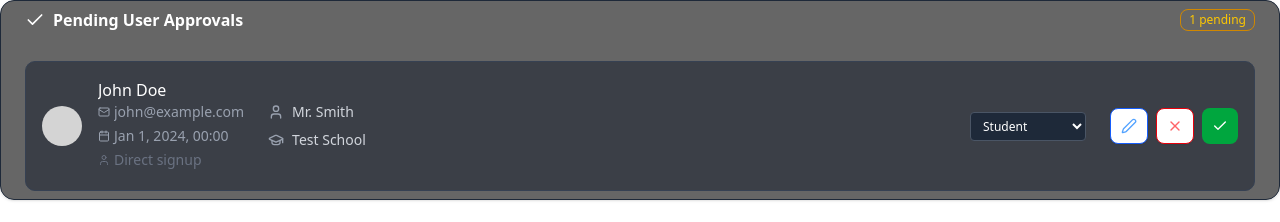
Test: PendingUsers › should open edit mode when edit button is clicked
Expected: the heading "John Doe" is shown, x1=98 y1=79 x2=166 y2=101
Click the 1st button at [1129, 126], box x1=1110 y1=108 x2=1148 y2=144
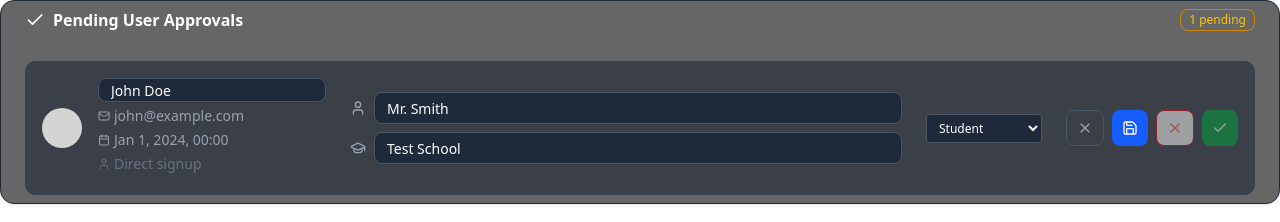
Now the 1st field is shown, box x1=98 y1=78 x2=326 y2=102
